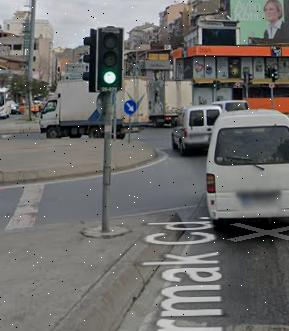greenlight: (98, 28, 122, 85)
